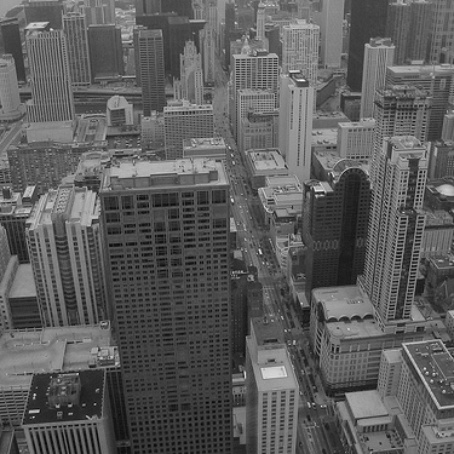building: (104, 156, 233, 454), (362, 140, 427, 329), (309, 297, 433, 389), (29, 187, 106, 321), (304, 161, 366, 293), (245, 317, 295, 454), (233, 51, 283, 149), (25, 26, 70, 126), (287, 67, 318, 176), (374, 87, 428, 146), (288, 22, 320, 115), (165, 101, 215, 160), (135, 31, 170, 114), (177, 39, 206, 106)
